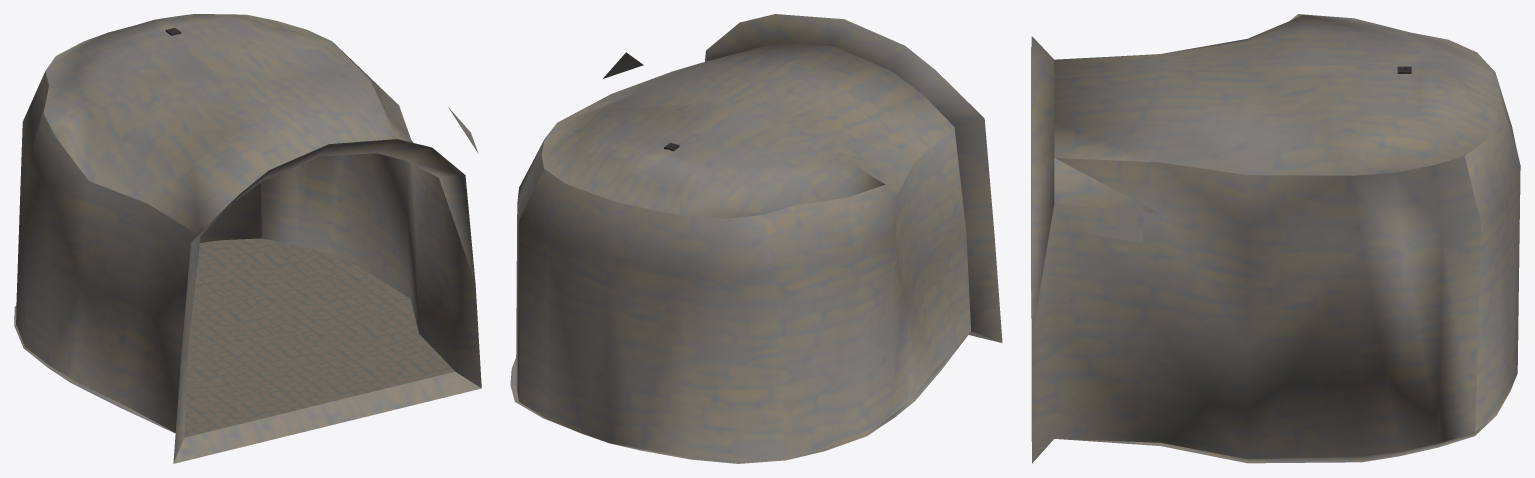
File: R_Tun7.glb
3 views of the same model, side by side, from view 1: azimuth 30°, elevation 25°; view 2: azimuth 150°, elevation 25°; view 3: azimuth 270°, elevation 25° (orthographic). The views are drawn at different scales.
Parts seen in each view (by area): view 1: _R_Tun7; view 2: _R_Tun7; view 3: _R_Tun7.
Part boxes in pixels (x1=…): _R_Tun7: x1=14, y1=14, x2=481, y2=463; _R_Tun7: x1=510, y1=14, x2=1002, y2=463; _R_Tun7: x1=1031, y1=14, x2=1520, y2=463.
Size of the model in its own units: 5.25 by 3.97 by 5.46.
4 materials, 4 textured.
